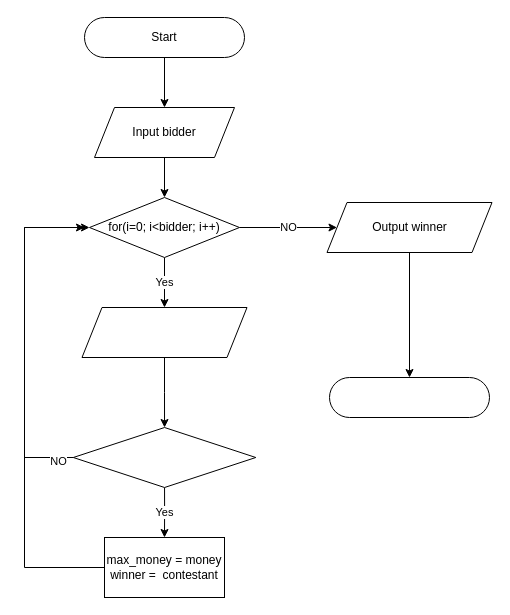
This 510x615 diagram has some shape labels left out. Each missing label, with the box of its shape:
End: (328, 376, 490, 418)
if( money > max_money): (72, 426, 256, 488)
Input contestant, money: (81, 306, 247, 358)
